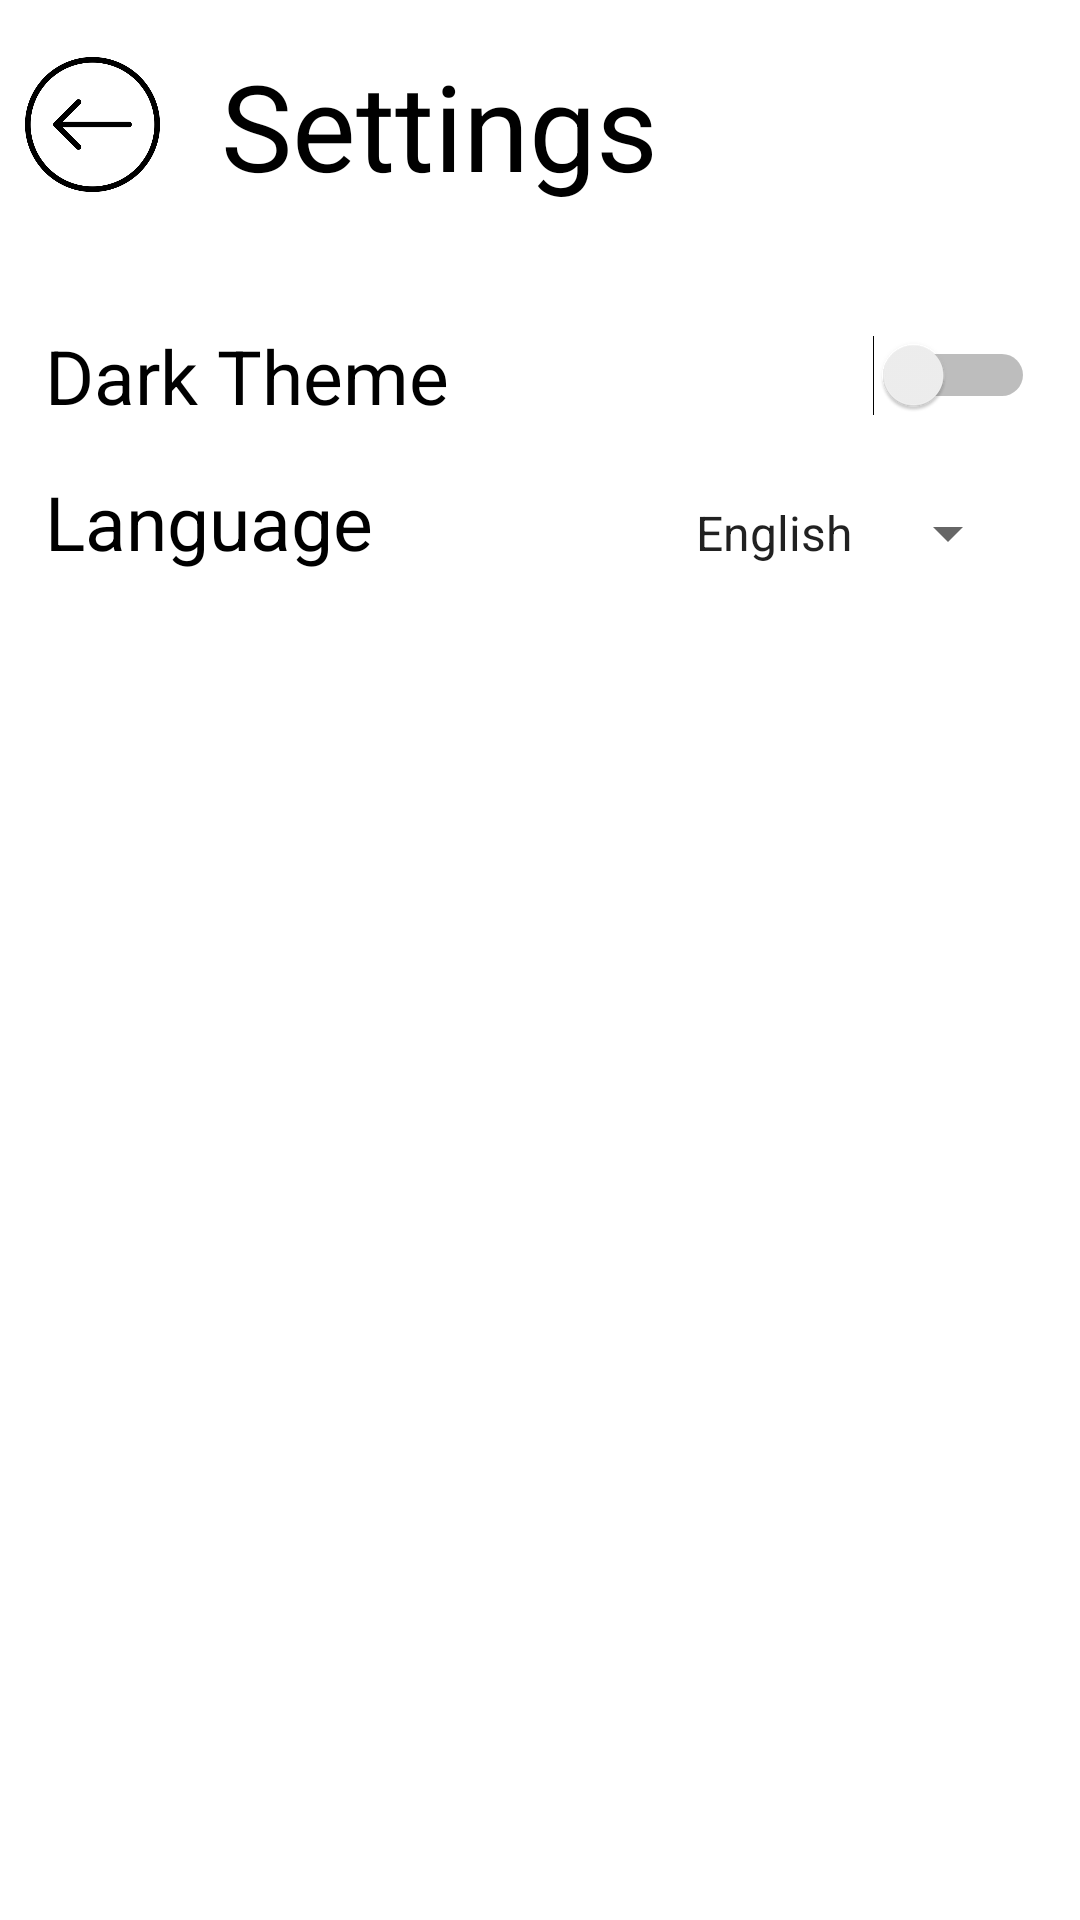

Point at icon controls on the screen. Image size 1080w x 1920h, points as (x,y).
back: (92,124)
